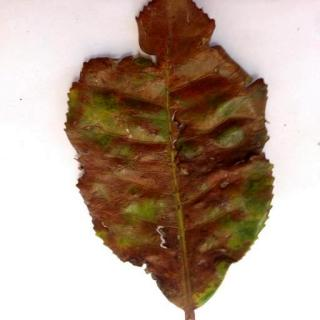Algal Leaf: (64, 1, 277, 320)
